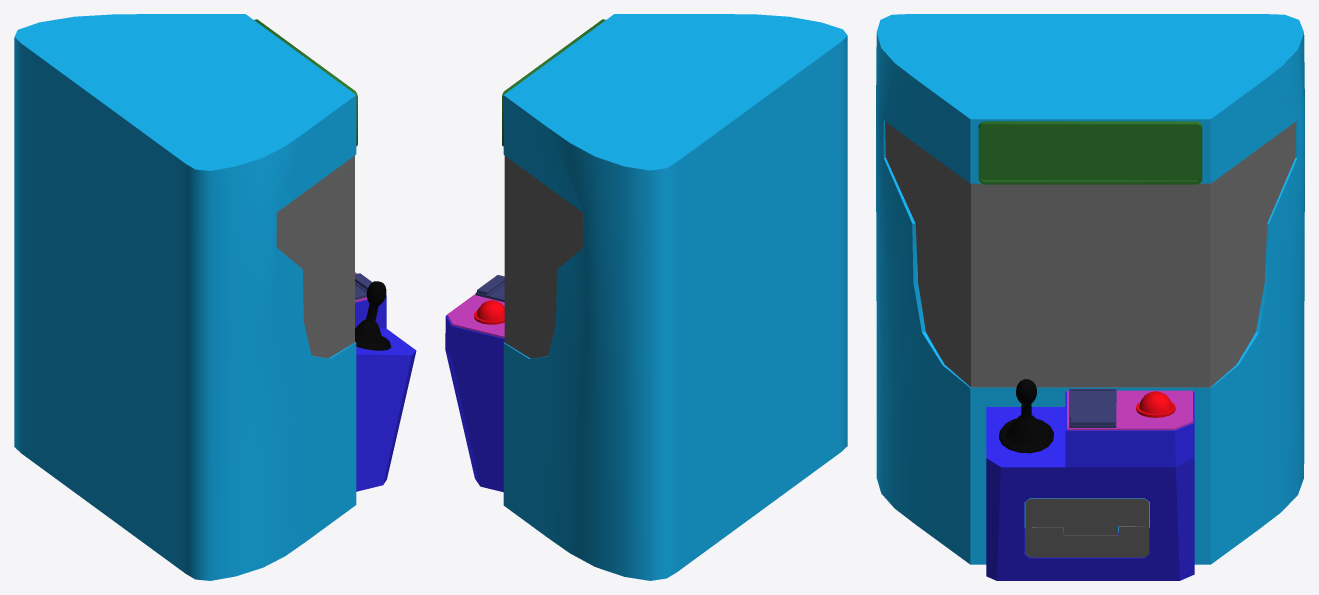
Rendered from CLAWMACHINEpaint.fbx.
3 views of the same model, side by side, from view 1: azimuth 30°, elevation 25°; view 2: azimuth 150°, elevation 25°; view 3: azimuth 270°, elevation 25° (orthographic). The views are drawn at different scales.
Parts seen in each view (by area): view 1: Cube, Cube.007, Cube.001, Cylinder, Cube.003; view 2: Cube, Cube.007, Cube.001, Cube.002, Cylinder.001, Cube.014, Cube.003; view 3: Cube, Cube.007, Cube.001, Cube.003, Cube.005, Cube.004, Cube.002, Cylinder, Cube.014, Cylinder.001.
Part boxes in pixels (x1,y1,x2,y2): Cube: (14, 14, 356, 580); Cube.007: (276, 155, 354, 358); Cube.001: (355, 295, 416, 491); Cylinder: (355, 281, 391, 350); Cube.003: (254, 19, 357, 146); Cube: (503, 14, 847, 580); Cube.007: (504, 156, 583, 358); Cube.001: (445, 315, 504, 492); Cube.002: (447, 294, 504, 338); Cylinder.001: (474, 300, 504, 324); Cube.014: (475, 275, 504, 302); Cube.003: (502, 19, 605, 146); Cube: (876, 14, 1304, 564); Cube.007: (885, 121, 1296, 387); Cube.001: (986, 391, 1194, 580); Cube.003: (978, 121, 1202, 184); Cube.005: (1025, 498, 1149, 535); Cube.004: (1025, 523, 1149, 557); Cube.002: (1067, 390, 1192, 430); Cylinder: (999, 379, 1053, 453); Cube.014: (1069, 389, 1116, 427); Cylinder.001: (1136, 391, 1175, 417).
Size of the model in its own units: 220 by 316 by 276.
